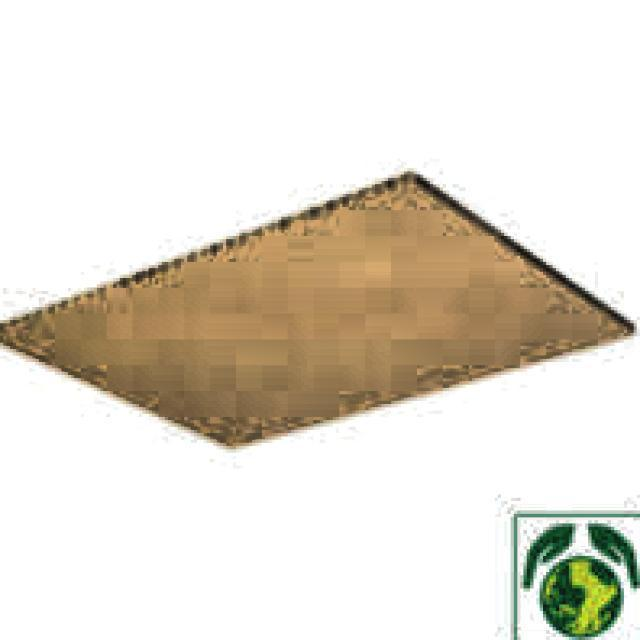cardboard: (0, 171, 637, 456)
